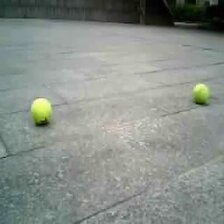tennis: (31, 98, 52, 122), (194, 84, 209, 101)
